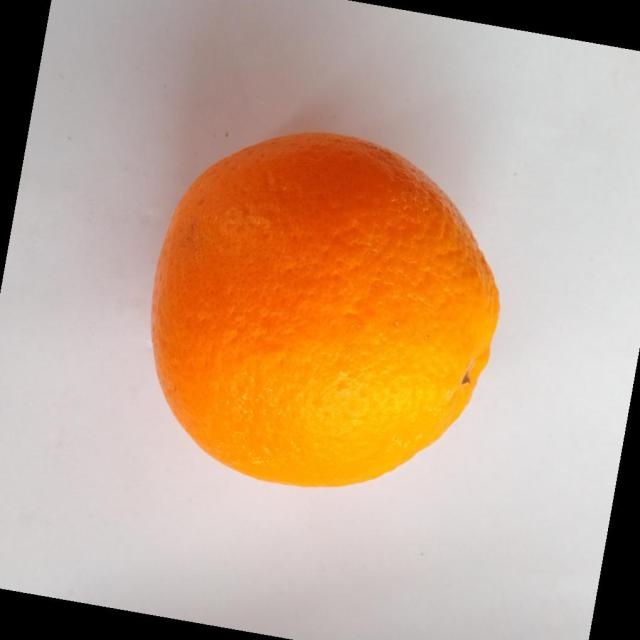agrume: (149, 130, 500, 489)
